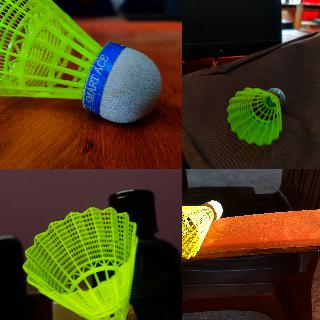shuttlecock: (0, 0, 162, 123), (22, 206, 139, 319), (226, 86, 284, 146), (182, 200, 222, 259)
